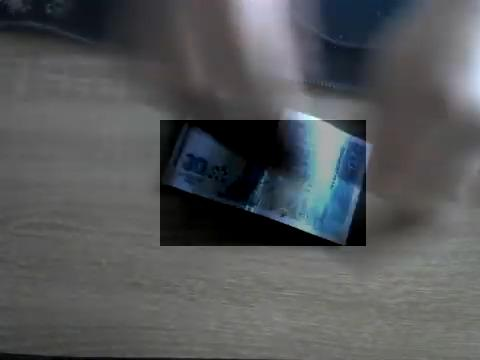20leva: (160, 120, 366, 246)
